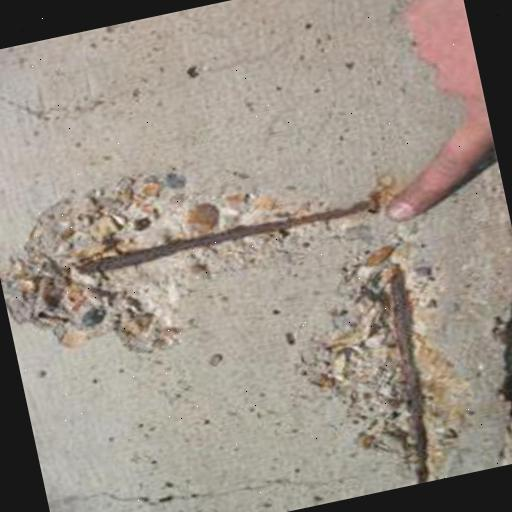spalling: (0, 162, 474, 486)
